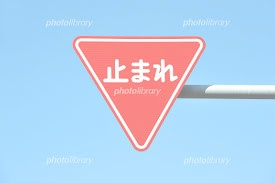Regulatory_sign_triangle: (70, 32, 206, 149)
